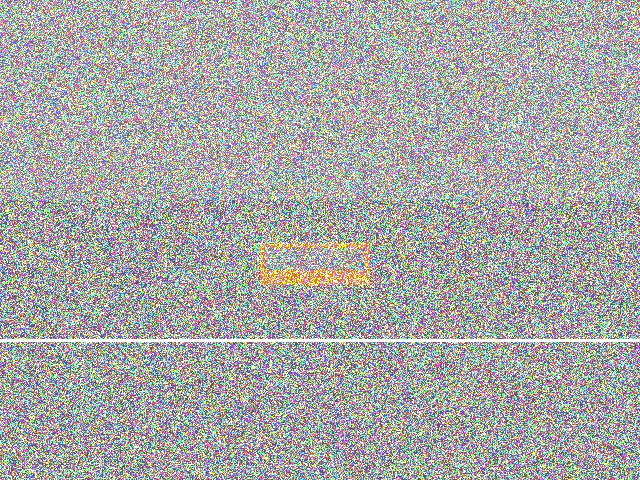bus: (98, 146, 273, 199)
truck: (347, 246, 493, 312)
